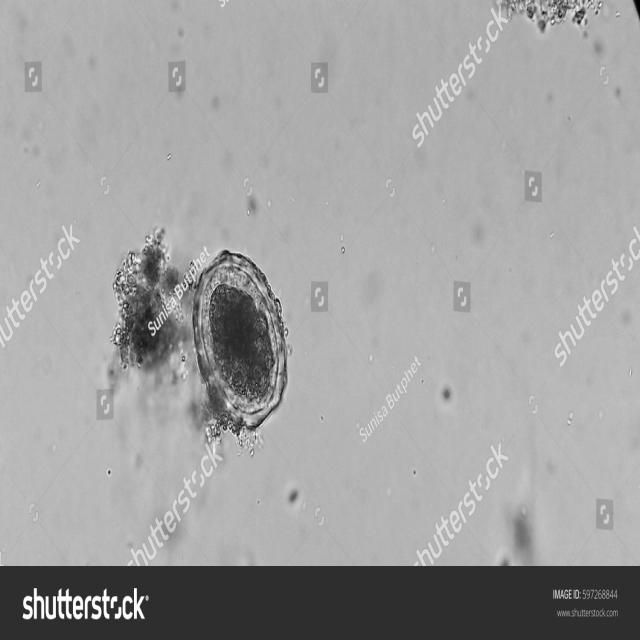Ascaris Lumbricoides: (188, 240, 296, 437)
